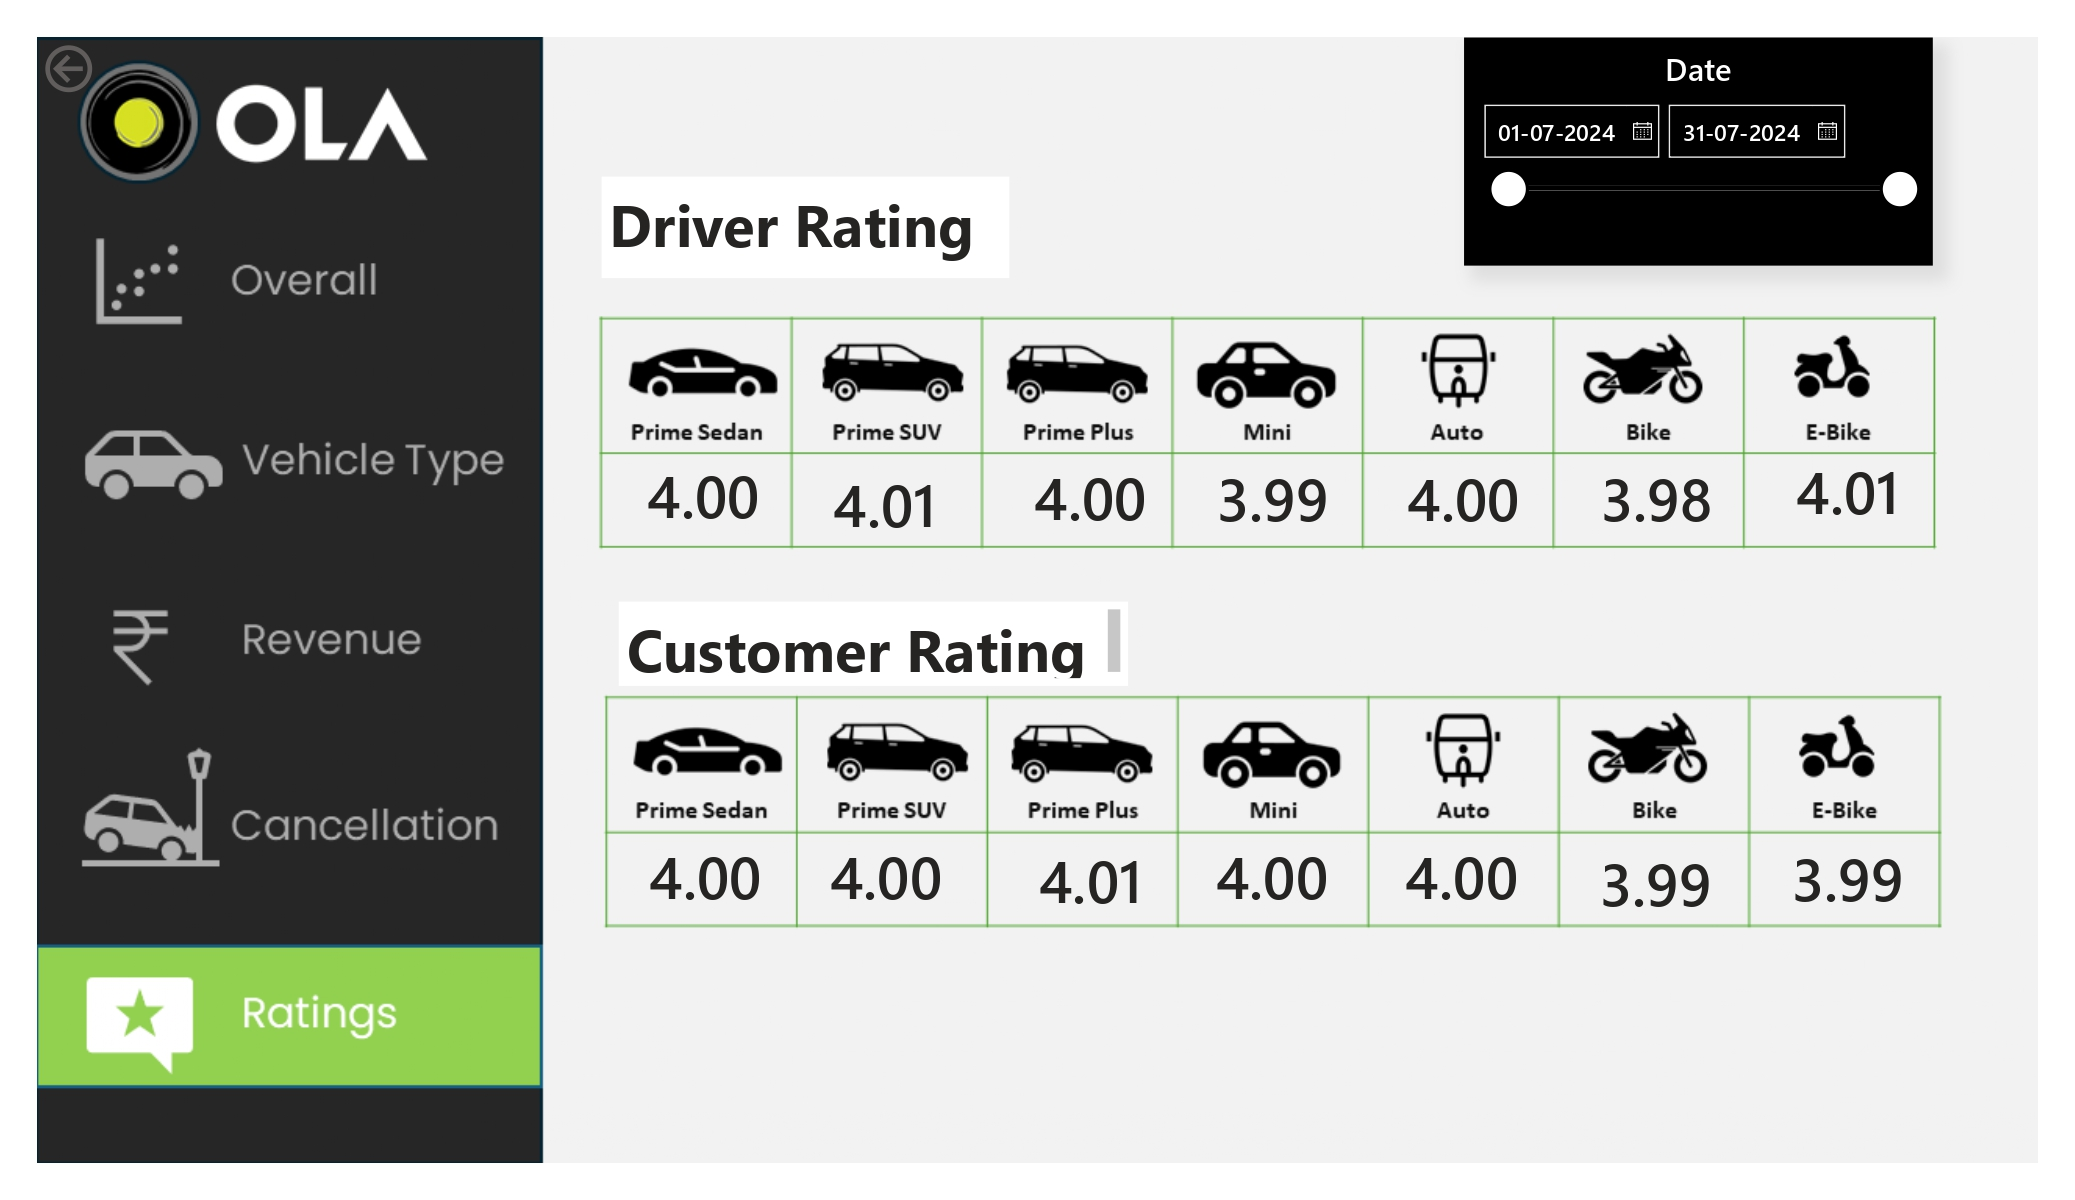

This screenshot's page, from the dashboard's own definition file:
{"tool":"powerbi","page":{"name":"rating","canvas":[1280,720],"ordinal":4},"visuals":[{"type":"actionButton","box":[0,218.6,324.3,90],"z":0},{"type":"actionButton","box":[0,218.6,324.3,90],"z":1000},{"type":"actionButton","box":[0,218.6,324.3,90],"z":2000},{"type":"actionButton","box":[0,342.9,324.3,90],"z":3000},{"type":"actionButton","box":[0,111.4,324.3,85.7],"z":4000},{"type":"actionButton","box":[0,111.4,324.3,85.7],"z":5000},{"type":"actionButton","box":[0,458.6,324.3,90],"z":6000},{"type":"actionButton","box":[0,580,324.3,90],"z":7000},{"type":"actionButton","box":[0,458.6,324.3,90],"z":8000},{"type":"actionButton","box":[0,228.6,324.3,90],"z":9000},{"type":"actionButton","box":[0,111.4,324.3,85.7],"z":10000},{"type":"actionButton","box":[10,352.9,324.3,90],"z":11000},{"type":"actionButton","box":[0,452.9,324.3,90],"z":12000},{"type":"actionButton","box":[0,352.9,324.6,90.7],"z":13000},{"type":"actionButton","box":[0,112,324.6,85],"z":14000},{"type":"actionButton","box":[0,223.9,324.6,90.7],"z":15000},{"type":"actionButton","box":[0,337.3,324.6,90.7],"z":16000},{"type":"actionButton","box":[10,462.9,324.3,90],"z":17000},{"type":"card","fields":{"Values":["Avg(Bookings.Driver_Ratings)"]},"box":[490.4,274,104.1,49.3],"z":20000},{"type":"card","fields":{"Values":["Avg(Bookings.Driver_Ratings)"]},"box":[732.9,269.9,115.1,49.3],"z":22000},{"type":"card","fields":{"Values":["Avg(Bookings.Driver_Ratings)"]},"box":[857.5,269.9,109.6,49.3],"z":23000},{"type":"card","fields":{"Values":["Avg(Bookings.Driver_Ratings)"]},"box":[983,270.2,106.4,48.9],"z":24000},{"type":"card","fields":{"Values":["Avg(Bookings.Driver_Ratings)"]},"box":[1104.3,266,108.5,48.9],"z":25000},{"type":"card","fields":{"Values":["Avg(Bookings.Customer_Rating)"]},"box":[374.6,507.3,105.8,58.8],"z":26000},{"type":"actionButton","box":[0,0,100,40],"z":27000},{"type":"card","fields":{"Values":["Avg(Bookings.Driver_Ratings)"]},"box":[621.5,269.5,104.3,50],"z":27001},{"type":"card","fields":{"Values":["Avg(Bookings.Customer_Rating)"]},"box":[491.1,512.9,104.3,47.8],"z":27002},{"type":"card","fields":{"Values":["Avg(Bookings.Driver_Ratings)"]},"box":[621.5,315.1,104.3,13],"z":27003},{"type":"card","fields":{"Values":["Avg(Bookings.Customer_Rating)"]},"box":[621.5,512.9,104.3,52.2],"z":27004},{"type":"card","fields":{"Values":["Avg(Bookings.Customer_Rating)"]},"box":[732.4,512.9,115.2,47.8],"z":27005},{"type":"card","fields":{"Values":["Avg(Bookings.Customer_Rating)"]},"box":[856.2,512.9,110.8,47.8],"z":27006},{"type":"card","fields":{"Values":["Avg(Bookings.Customer_Rating)"]},"box":[982.3,517.2,106.5,47.8],"z":27007},{"type":"card","fields":{"Values":["Avg(Bookings.Customer_Rating)"]},"box":[1104,512.9,108.7,50],"z":27008},{"type":"card","fields":{"Values":["Avg(Bookings.Driver_Ratings)"]},"box":[373.8,269.5,104.3,47.8],"z":27009},{"type":"textbox","box":[371.6,360.7,326,54.3],"z":27010},{"type":"textbox","box":[360.7,89.1,260.8,65.2],"z":27011},{"type":"slicer","title":"Date","fields":{"Values":["Bookings.Date"]},"box":[912.7,0,299.9,145.6],"z":27012}]}

Visuals, with their boxes on the page's 1280x720 design canvas (x1, y1, x2, y2). These are canvas units, not pixel positions in the 2075x1200 screenshot, which may show the page scaled, cropped or inside an application window:
actionButton: rect(0, 219, 324, 309)
actionButton: rect(0, 219, 324, 309)
actionButton: rect(0, 219, 324, 309)
actionButton: rect(0, 343, 324, 433)
actionButton: rect(0, 111, 324, 197)
actionButton: rect(0, 111, 324, 197)
actionButton: rect(0, 459, 324, 549)
actionButton: rect(0, 580, 324, 670)
actionButton: rect(0, 459, 324, 549)
actionButton: rect(0, 229, 324, 319)
actionButton: rect(0, 111, 324, 197)
actionButton: rect(10, 353, 334, 443)
actionButton: rect(0, 453, 324, 543)
actionButton: rect(0, 353, 325, 444)
actionButton: rect(0, 112, 325, 197)
actionButton: rect(0, 224, 325, 315)
actionButton: rect(0, 337, 325, 428)
actionButton: rect(10, 463, 334, 553)
card - Avg(Bookings.Driver_Ratings): rect(490, 274, 594, 323)
card - Avg(Bookings.Driver_Ratings): rect(733, 270, 848, 319)
card - Avg(Bookings.Driver_Ratings): rect(858, 270, 967, 319)
card - Avg(Bookings.Driver_Ratings): rect(983, 270, 1089, 319)
card - Avg(Bookings.Driver_Ratings): rect(1104, 266, 1213, 315)
card - Avg(Bookings.Customer_Rating): rect(375, 507, 480, 566)
actionButton: rect(0, 0, 100, 40)
card - Avg(Bookings.Driver_Ratings): rect(622, 270, 726, 320)
card - Avg(Bookings.Customer_Rating): rect(491, 513, 595, 561)
card - Avg(Bookings.Driver_Ratings): rect(622, 315, 726, 328)
card - Avg(Bookings.Customer_Rating): rect(622, 513, 726, 565)
card - Avg(Bookings.Customer_Rating): rect(732, 513, 848, 561)
card - Avg(Bookings.Customer_Rating): rect(856, 513, 967, 561)
card - Avg(Bookings.Customer_Rating): rect(982, 517, 1089, 565)
card - Avg(Bookings.Customer_Rating): rect(1104, 513, 1213, 563)
card - Avg(Bookings.Driver_Ratings): rect(374, 270, 478, 317)
textbox: rect(372, 361, 698, 415)
textbox: rect(361, 89, 622, 154)
"Date" slicer: rect(913, 0, 1213, 146)
